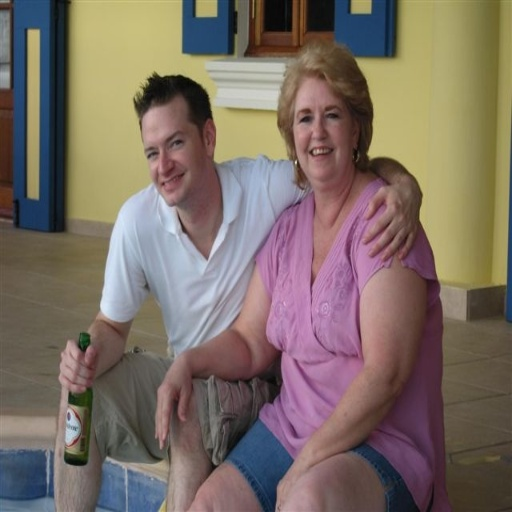hand: (355, 149, 424, 288), (153, 352, 193, 451), (57, 336, 100, 396), (273, 462, 310, 510)
